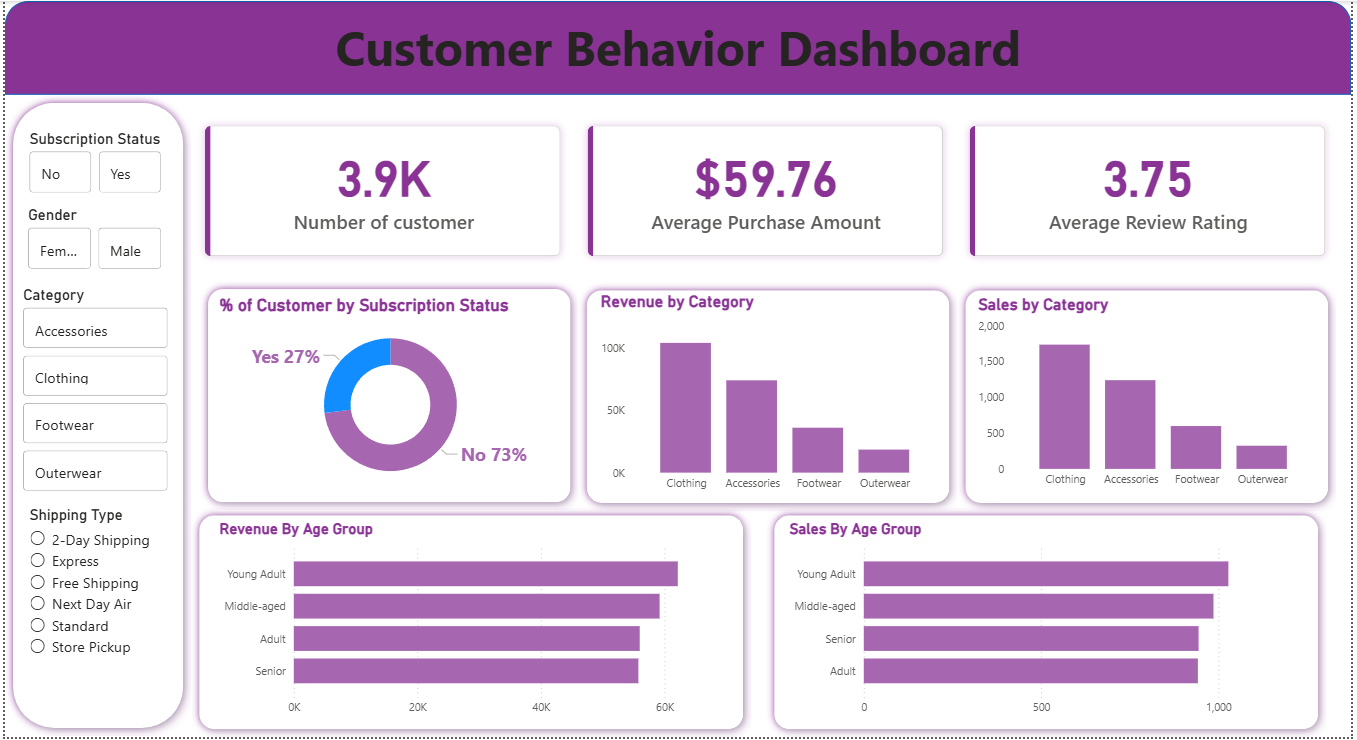

The page's visual inventory and layout, read from the dashboard file:
{"tool":"powerbi","page":{"name":"Page 1","canvas":[1500,820],"ordinal":0},"visuals":[{"type":"cardVisual","fields":{"Data":["customer customer_detail.Number of customer","customer customer_detail.Average Purchase Amount","customer customer_detail.Average Review Rating"]},"box":[195,111.4,1304.9,201.9],"z":1000},{"type":"shape","box":[207.5,564,623.9,256.3],"z":1500},{"type":"shape","box":[0,0,1499.9,104.5],"z":2000},{"type":"textbox","box":[0,9.7,1499.9,94.7],"z":3000},{"type":"shape","box":[217.7,311.8,421.9,255.6],"z":4000},{"type":"donutChart","title":"% of Customer by Subscription Status ","fields":{"Category":["customer customer_detail.subscription_status"],"Y":["CountNonNull(customer customer_detail.customer_id)"]},"box":[233.6,327.7,391.3,223.8],"z":5000},{"type":"shape","box":[639.2,313.4,422,254.9],"z":6000},{"type":"shape","box":[1061.2,313.4,422,254.9],"z":7000},{"type":"clusteredColumnChart","title":"Revenue by Category","fields":{"Y":["Sum(customer customer_detail.purchase_amount)"],"Category":["customer customer_detail.category"]},"box":[658.7,324.5,385.8,231.2],"z":8000},{"type":"clusteredColumnChart","title":"Sales by Category","fields":{"Y":["CountNonNull(customer customer_detail.customer_id)"],"Category":["customer customer_detail.category"]},"box":[1079.3,327.3,385.8,224.2],"z":9000},{"type":"shape","box":[0,104.5,207.5,714.4],"z":10000},{"type":"advancedSlicerVisual","fields":{"Values":["customer customer_detail.subscription_status"]},"box":[22.6,143.4,157.4,75.2],"z":11000},{"type":"advancedSlicerVisual","fields":{"Values":["customer customer_detail.gender"]},"box":[20.6,228.7,158.8,75.2],"z":12000},{"type":"advancedSlicerVisual","fields":{"Values":["customer customer_detail.category"]},"box":[15.3,317.3,171.3,234],"z":13000},{"type":"listSlicer","fields":{"Values":["customer customer_detail.shipping_type"]},"box":[22.6,562.4,153.2,227],"z":14000},{"type":"shape","box":[848.1,564,623.9,256.3],"z":16000},{"type":"clusteredBarChart","title":"Sales By Age Group","fields":{"Category":["customer customer_detail.age_group"],"Y":["CountNonNull(customer customer_detail.customer_id)"]},"box":[869,578,582.1,227],"z":17000},{"type":"clusteredBarChart","title":"Revenue By Age Group","fields":{"Category":["customer customer_detail.age_group"],"Y":["Sum(customer customer_detail.purchase_amount)"]},"box":[234,578,584.9,227],"z":17500}]}

Visuals, with their boxes in screenshot pixels (x1, y1, x2, y2), scaled from the page's 1500x820 canvas onto the 1357x740 screenshot:
cardVisual - customer customer_detail.Number of customer x customer customer_detail.Average Purchase Amount: {"x1": 176, "y1": 101, "x2": 1356, "y2": 283}
shape: {"x1": 188, "y1": 509, "x2": 752, "y2": 739}
shape: {"x1": 0, "y1": 0, "x2": 1356, "y2": 94}
textbox: {"x1": 0, "y1": 9, "x2": 1356, "y2": 94}
shape: {"x1": 197, "y1": 281, "x2": 579, "y2": 512}
"% of Customer by Subscription Status " donutChart: {"x1": 211, "y1": 296, "x2": 565, "y2": 498}
shape: {"x1": 578, "y1": 283, "x2": 960, "y2": 513}
shape: {"x1": 960, "y1": 283, "x2": 1342, "y2": 513}
"Revenue by Category" clusteredColumnChart: {"x1": 596, "y1": 293, "x2": 945, "y2": 501}
"Sales by Category" clusteredColumnChart: {"x1": 976, "y1": 295, "x2": 1325, "y2": 498}
shape: {"x1": 0, "y1": 94, "x2": 188, "y2": 739}
advancedSlicerVisual - customer customer_detail.subscription_status: {"x1": 20, "y1": 129, "x2": 163, "y2": 197}
advancedSlicerVisual - customer customer_detail.gender: {"x1": 19, "y1": 206, "x2": 162, "y2": 274}
advancedSlicerVisual - customer customer_detail.category: {"x1": 14, "y1": 286, "x2": 169, "y2": 498}
listSlicer - customer customer_detail.shipping_type: {"x1": 20, "y1": 508, "x2": 159, "y2": 712}
shape: {"x1": 767, "y1": 509, "x2": 1332, "y2": 739}
"Sales By Age Group" clusteredBarChart: {"x1": 786, "y1": 522, "x2": 1313, "y2": 726}
"Revenue By Age Group" clusteredBarChart: {"x1": 212, "y1": 522, "x2": 741, "y2": 726}
